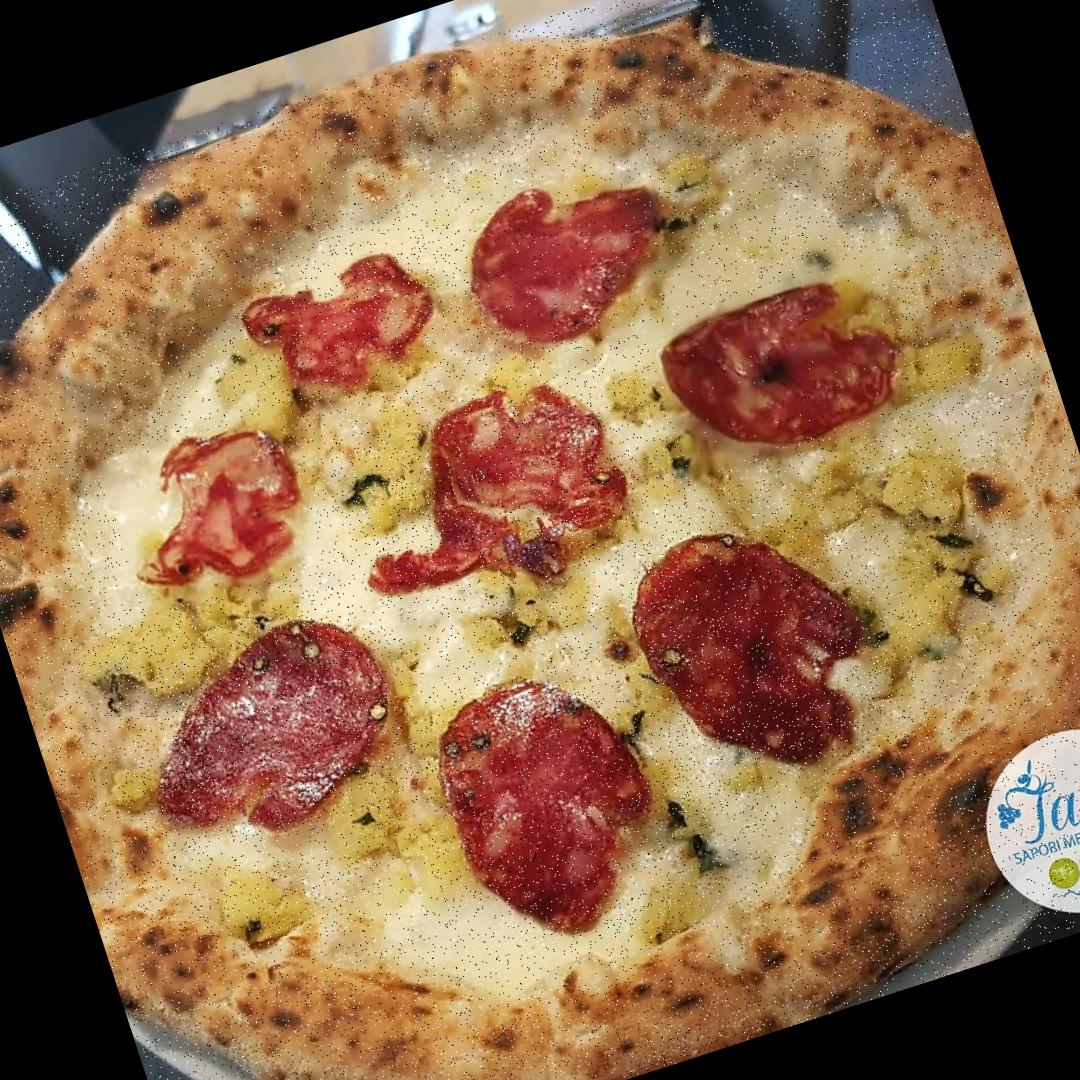Pepperoni: (603, 481, 914, 818), (412, 645, 705, 970), (105, 581, 422, 874), (340, 369, 642, 603), (642, 258, 908, 476), (455, 148, 686, 348), (100, 410, 324, 615), (228, 237, 452, 414)
Pizza: (0, 0, 1080, 1080)
